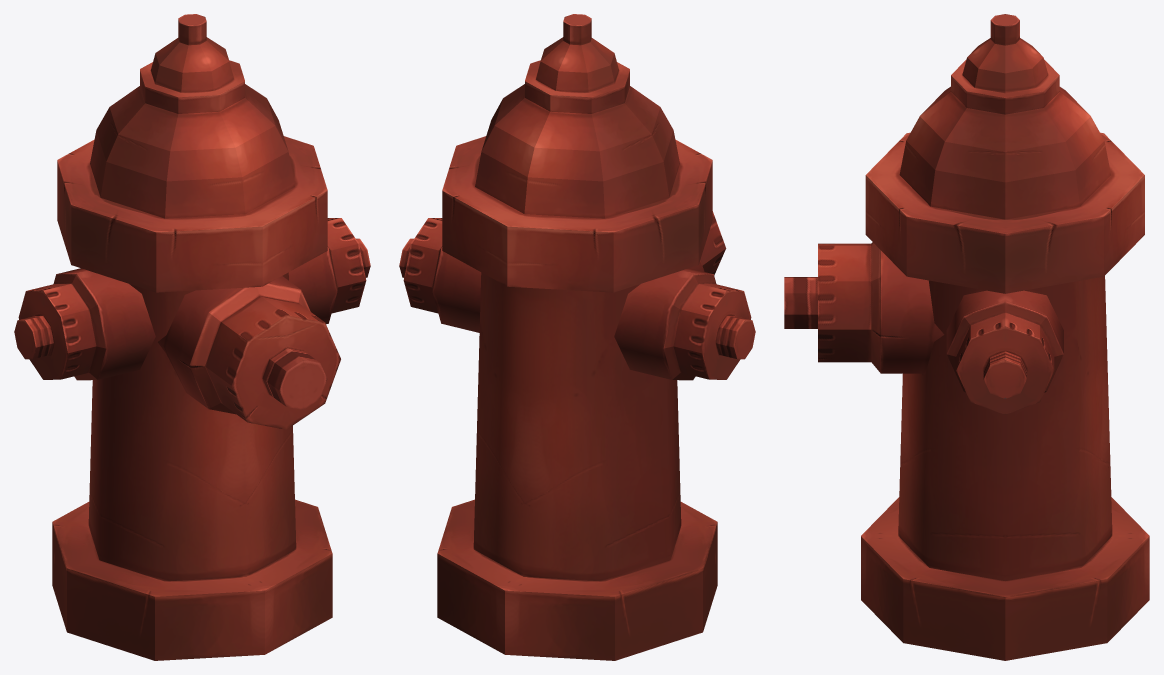
Rendered from 01_fire hydrant.FBX.
3 renders of one model, left to right at view 1: azimuth 30°, elevation 25°; view 2: azimuth 150°, elevation 25°; view 3: azimuth 270°, elevation 25°, orthographic.
Parts seen in each view (by area): view 1: 01_fire hydrant; view 2: 01_fire hydrant; view 3: 01_fire hydrant.
Part boxes in pixels (x1,y1,x2,y2): 01_fire hydrant: (14, 14, 370, 660); 01_fire hydrant: (399, 14, 755, 660); 01_fire hydrant: (784, 14, 1149, 660).
Bounding box in the file's own units: 29.09 × 48.3 × 27.61.
